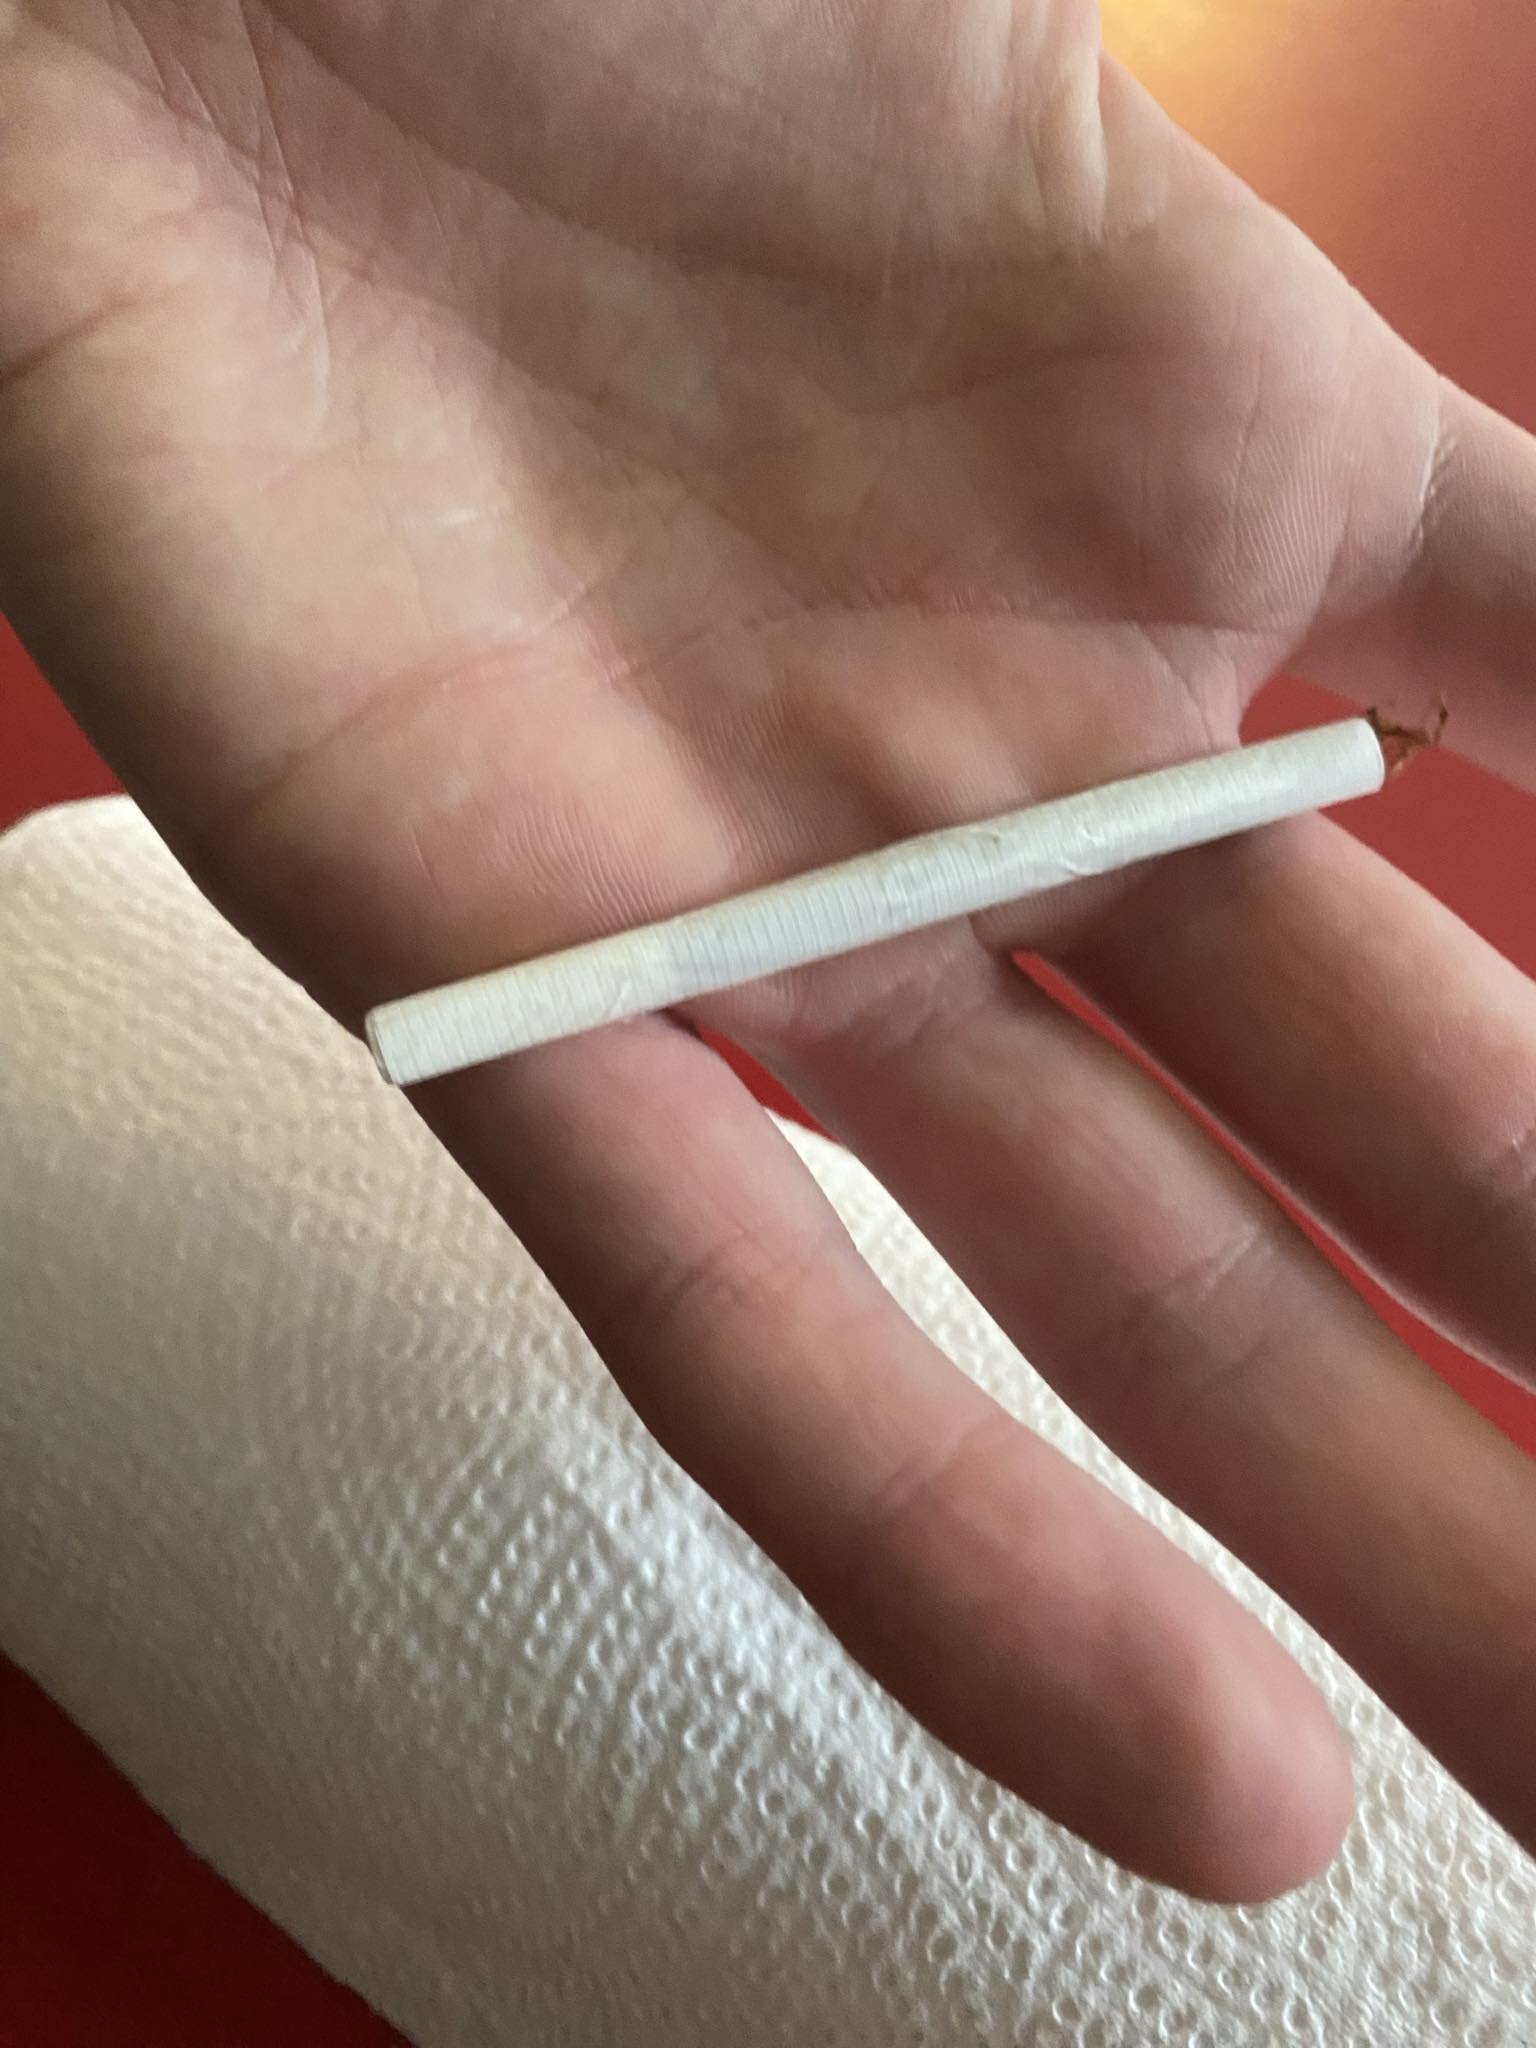Cigarette: (366, 714, 1420, 1085)
